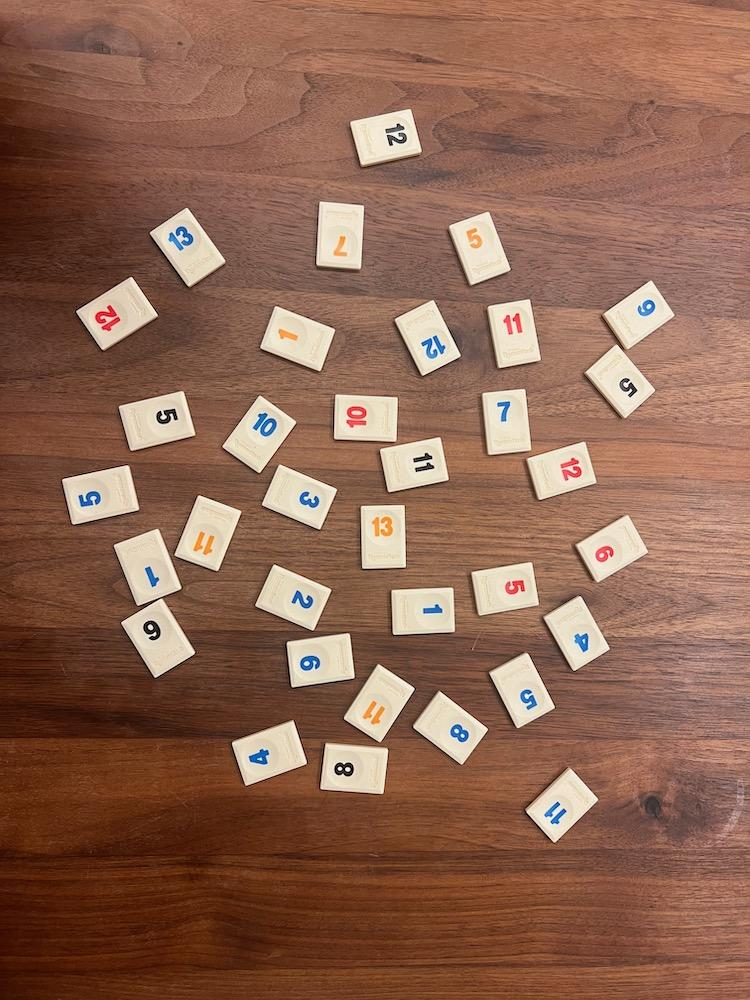black_11: (381, 438, 449, 492)
black_12: (350, 109, 422, 166)
black_5: (586, 346, 654, 418), (119, 391, 195, 451)
black_8: (320, 742, 389, 794)
black_9: (122, 598, 195, 678)
blue_1: (115, 529, 182, 605), (394, 588, 455, 635)
blue_10: (223, 396, 295, 473)
blue_11: (525, 768, 598, 842)
blue_12: (396, 301, 461, 375)
blue_13: (150, 209, 225, 287)
blue_2: (258, 564, 330, 631)
blue_3: (264, 465, 336, 529)
blue_4: (232, 721, 307, 785), (545, 596, 609, 670)
blue_5: (490, 652, 555, 727), (63, 465, 139, 523)
blue_7: (483, 390, 530, 454)
blue_8: (414, 691, 488, 764)
blue_9: (604, 281, 674, 350), (287, 633, 355, 688)
orange_1: (260, 307, 334, 369)
orange_11: (344, 664, 414, 742), (174, 496, 240, 570)
orange_13: (361, 506, 404, 568)
orange_5: (449, 213, 510, 285)
orange_7: (316, 201, 363, 270)
red_10: (335, 396, 396, 440)
red_11: (488, 299, 541, 368)
red_12: (76, 277, 158, 350), (527, 441, 596, 500)
red_5: (472, 562, 539, 615)
red_9: (576, 516, 648, 582)
